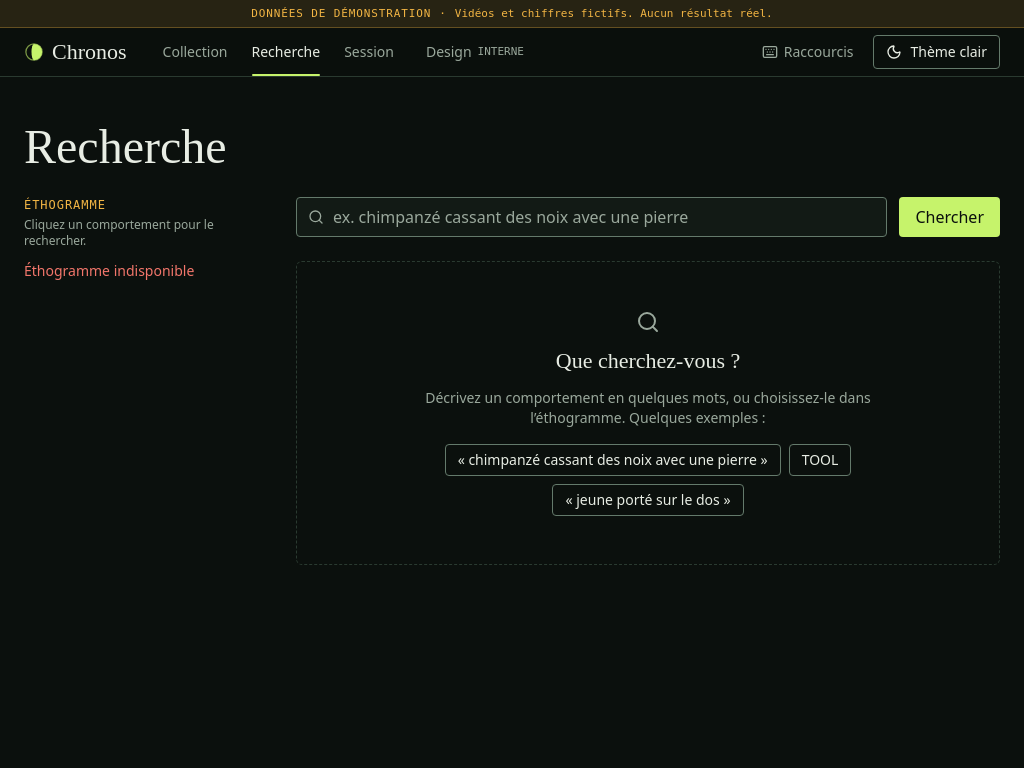
écran Recherche › affiche une erreur avec « Réessayer » quand le service ne répond pas
Type "outil" into the search field. click: point(592, 217)
box: [296, 197, 888, 237]
Then press Enter
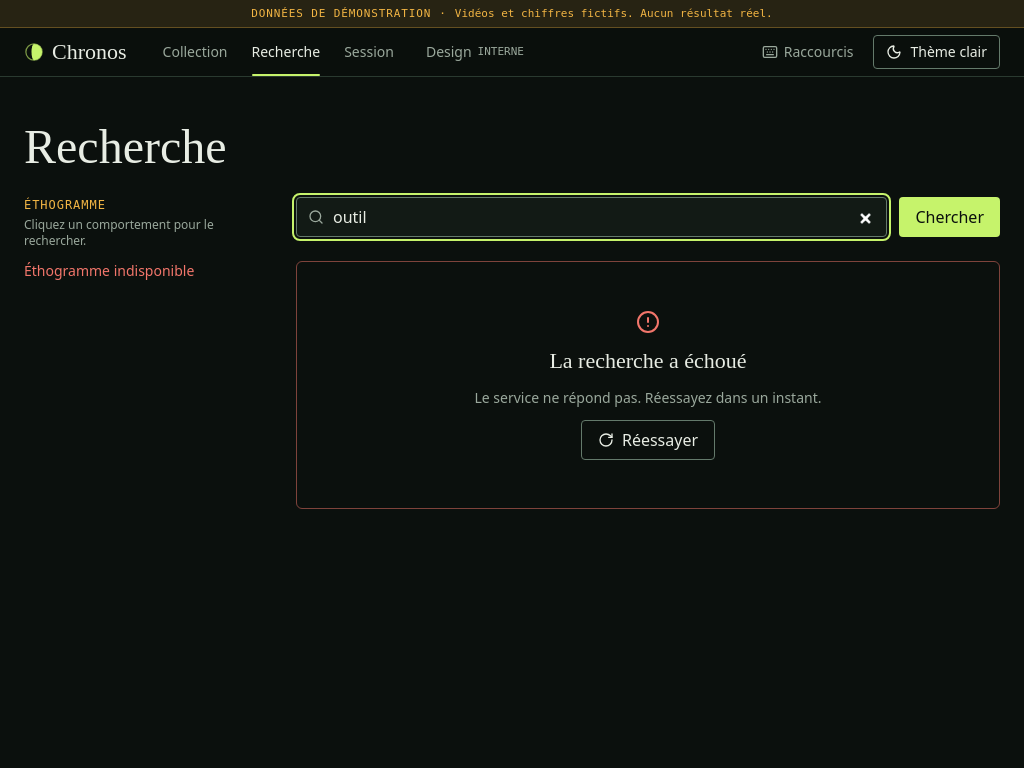
Expected: the message shows "La recherche a échoué", [549, 348, 747, 373]
Expected: the button "Réessayer" is shown, [581, 420, 715, 460]
